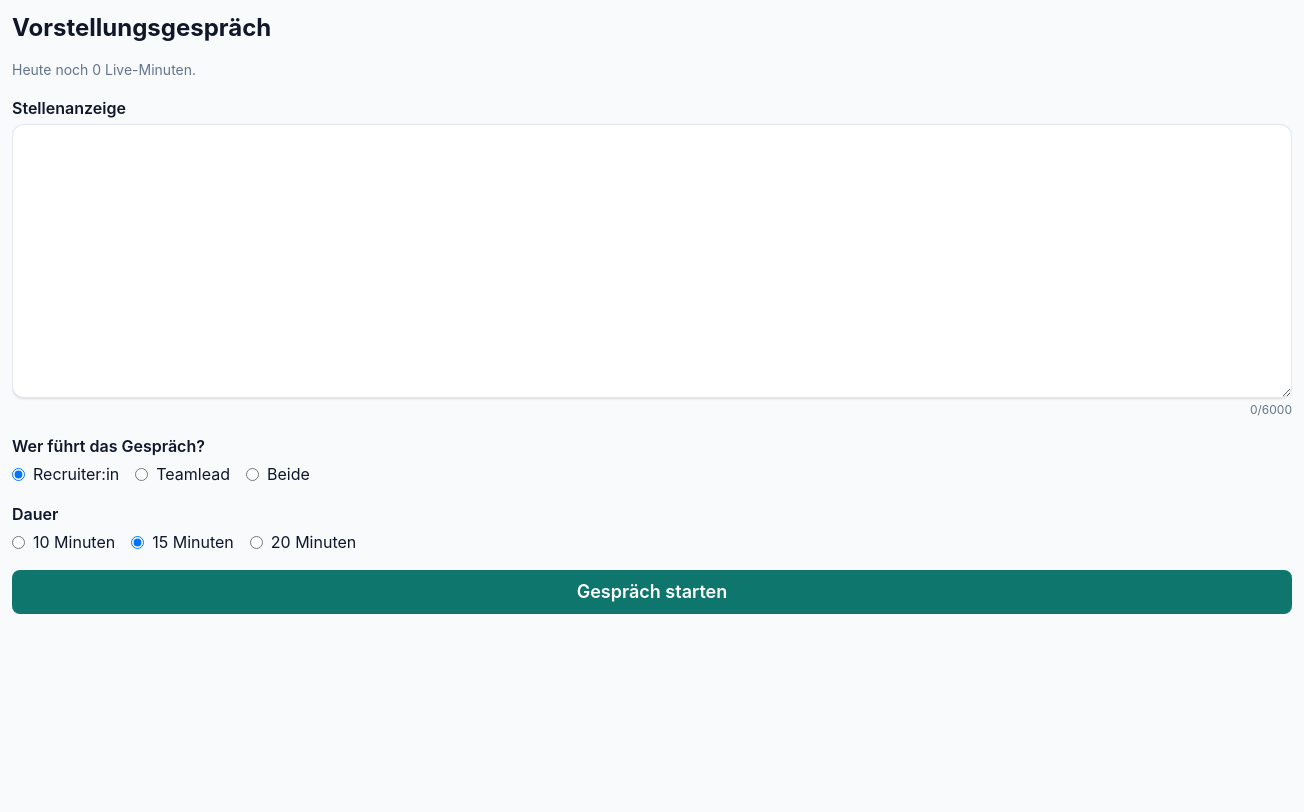
Scenario: Interview › 429: shows the limit message
The width and height of the screenshot is (1304, 812).
Type "Backend-Entwickler (m/w/d) Kotlin, Ktor, PostgreSQL" into the text box labelled "Stellenanzeige" at (652, 261), box [12, 124, 1292, 398]
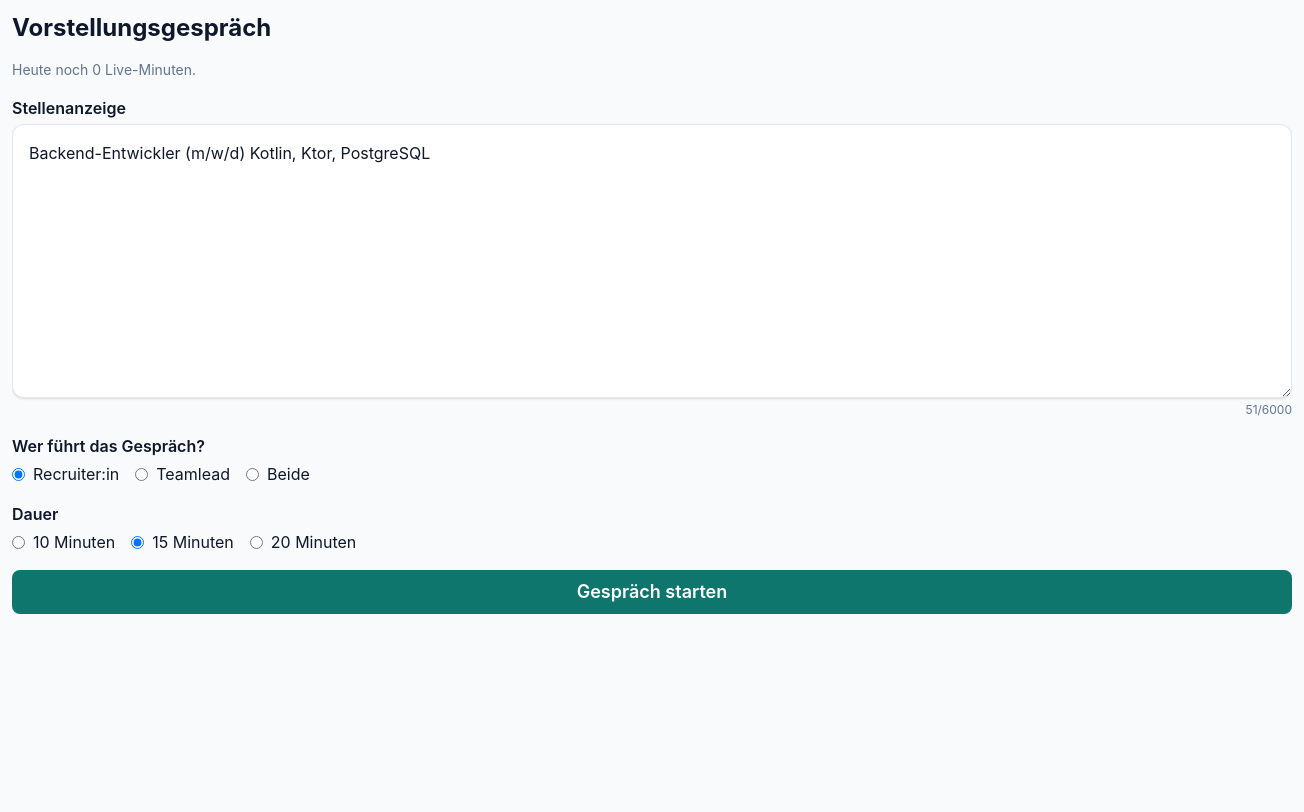
Click the button "Gespräch starten" at (652, 592), box [12, 570, 1292, 614]
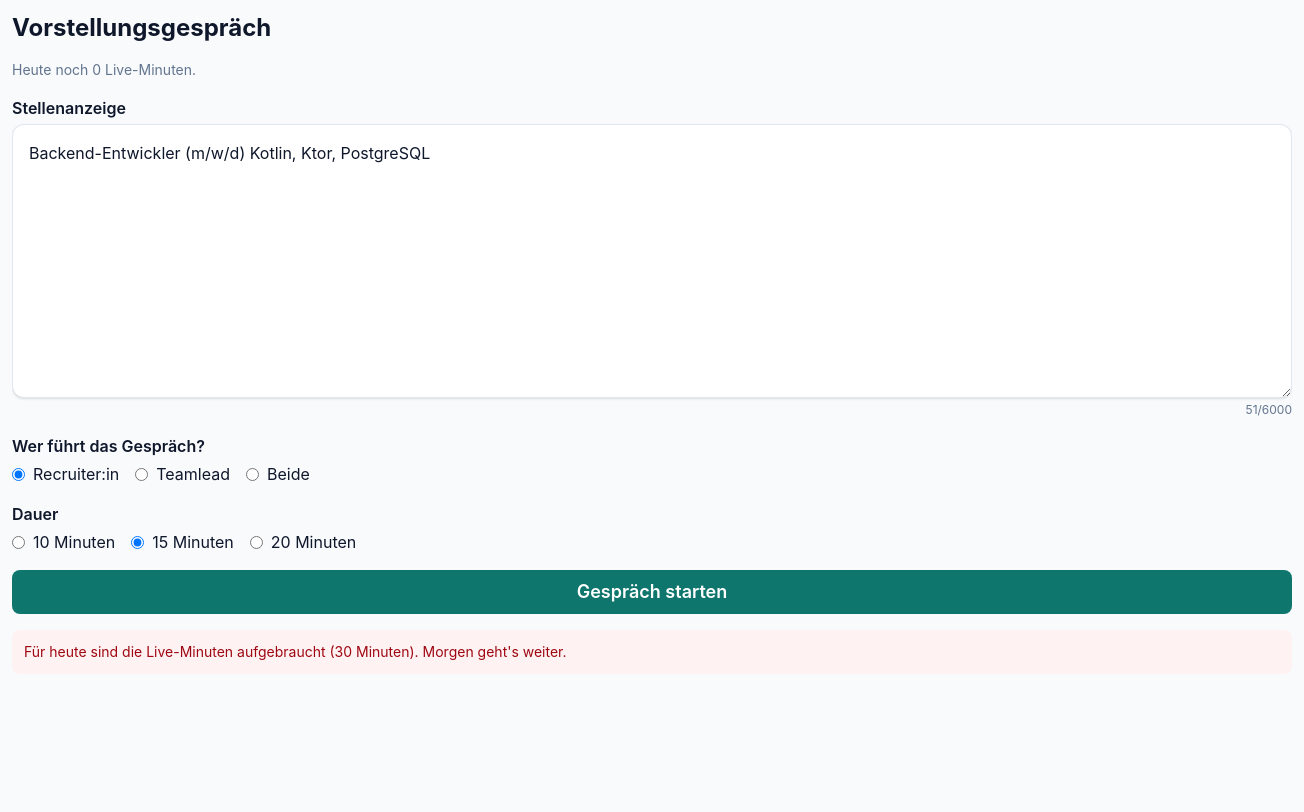
Result: the message shows "Für heute sind die Live-Minuten aufgebraucht (30 Minuten)." at [24, 643, 566, 660]
